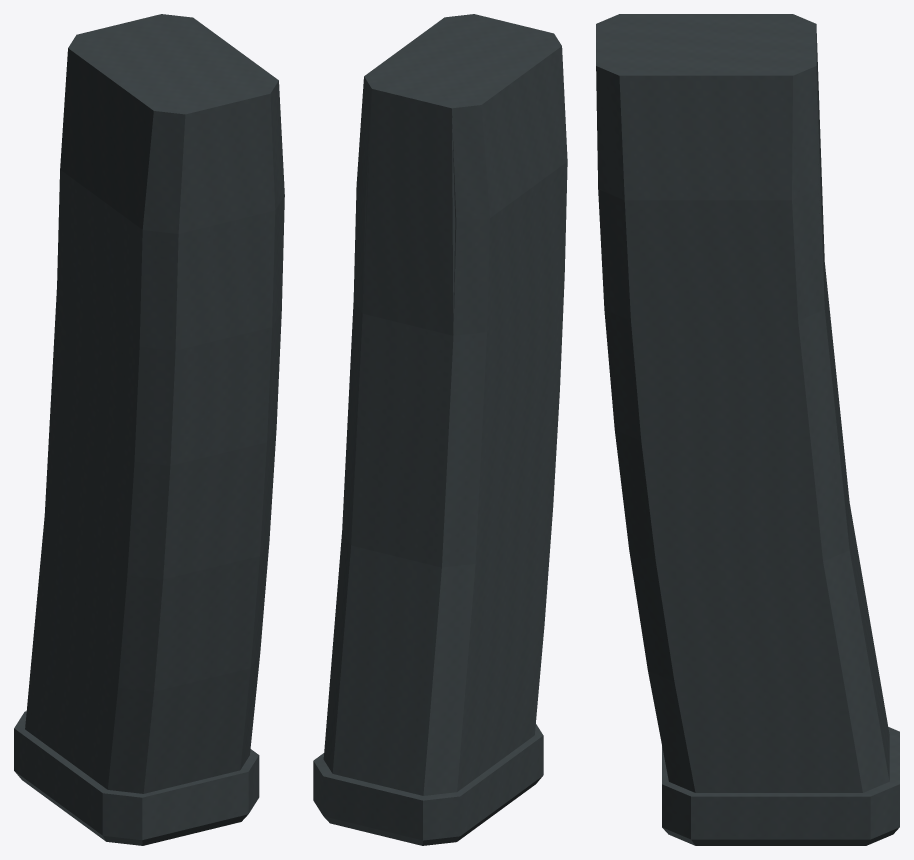
The picture shows the model from 3 angles, left to right: view 1: azimuth 30°, elevation 25°; view 2: azimuth 150°, elevation 25°; view 3: azimuth 270°, elevation 25°; orthographic projection. The views are drawn at different scales.
Visible parts, largest first — view 1: mp5_15_individual_shell, mp5_15_individual_shell.001; view 2: mp5_15_individual_shell.001, mp5_15_individual_shell; view 3: mp5_15_individual_shell, mp5_15_individual_shell.001.
Boxes of the visible parts, x1,y1,x2,y2 form: mp5_15_individual_shell: [14, 14, 284, 845]; mp5_15_individual_shell.001: [25, 286, 139, 788]; mp5_15_individual_shell.001: [323, 89, 564, 795]; mp5_15_individual_shell: [313, 14, 567, 845]; mp5_15_individual_shell: [596, 14, 899, 845]; mp5_15_individual_shell.001: [631, 33, 889, 792].
Bounding box in the file's own units: 0.0539 × 0.249 × 0.0896.
1 material, 1 textured.
